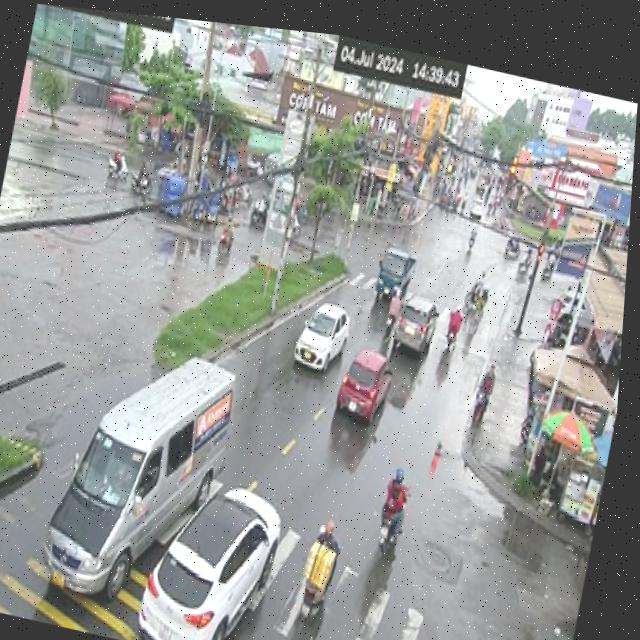Red: (506, 139, 520, 190), (533, 230, 547, 273)
